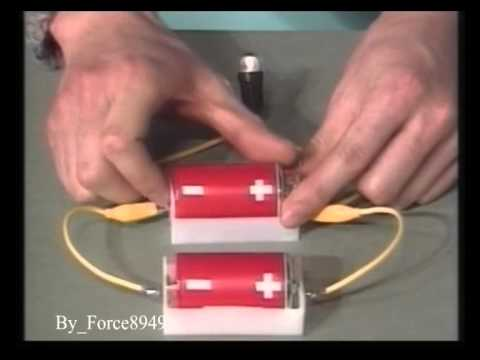Battery: (166, 248, 296, 314), (169, 157, 288, 222)
